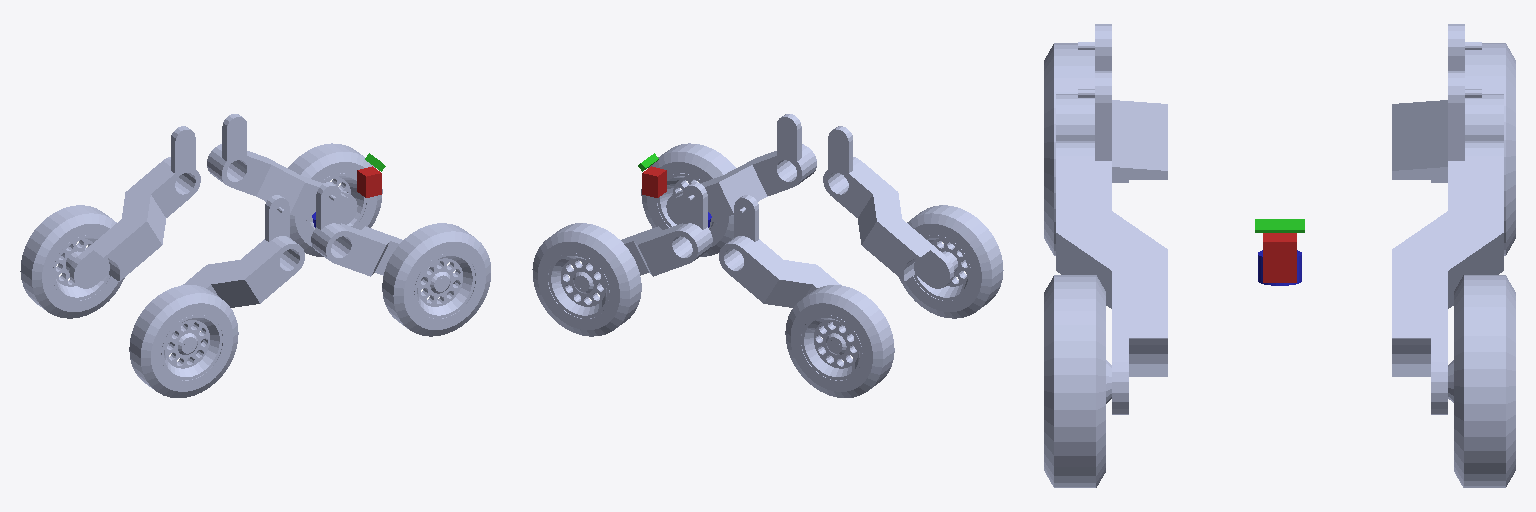
URDF robot description (RANGER):
<?xml version="1.0" encoding="utf-8"?>
<!-- This URDF was automatically created by SolidWorks to URDF Exporter! Originally created by Stephen Brawner (brawner@gmail.com) 
     Commit Version: 1.6.0-4-g7f85cfe  Build Version: 1.6.7995.38578
     For more information, please see http://wiki.ros.org/sw_urdf_exporter -->
<robot
  name="RANGER">
  <link
    name="base_link">
    <inertial>
      <origin
        xyz="-5.46479096528476E-17 7.31981084286794E-16 -0.188934193606082"
        rpy="0 0 0" />
      <mass
        value="100.0" />
      <inertia
        ixx="6.14905500644"
        ixy="0"
        ixz="0"
        iyy="16.30883084895"
        iyz="0"
        izz="20.61505350979" />
    </inertial>
    <visual>
      <origin
        xyz="0 0 0"
        rpy="0 0 0" />
      <geometry>
        <mesh
          filename="../meshes/base_link.STL" />
      </geometry>
      <material
        name="">
        <color
          rgba="0.929411764705882 1 0.956862745098039 1" />
      </material>
    </visual>
    <collision>
      <origin
        xyz="0 0 0"
        rpy="0 0 0" />
      <geometry>
        <mesh
          filename="../meshes/base_link.STL" />
      </geometry>
    </collision>
  </link>
  <link
    name="lb_Link">
    <inertial>
      <origin
        xyz="-0.170743816127254 0.000576453381228581 -0.0917627152243217"
        rpy="0 0 0" />
      <mass
        value="5.0" />
      <inertia
        ixx="0.05156656736"
        ixy="-0.01680026754"
        ixz="-0.04265638841"
        iyy="0.10789462840"
        iyz="-0.01021225192"
        izz="0.08308789335" />
    </inertial>
    <visual>
      <origin
        xyz="0 0 0"
        rpy="0 0 0" />
      <geometry>
        <mesh
          filename="../meshes/lb_Link.STL" />
      </geometry>
      <material
        name="">
        <color
          rgba="0.792156862745098 0.819607843137255 0.933333333333333 1" />
      </material>
    </visual>
    <collision>
      <origin
        xyz="0 0 0"
        rpy="0 0 0" />
      <geometry>
        <mesh
          filename="../meshes/lb_Link.STL" />
      </geometry>
    </collision>
  </link>
  <joint
    name="g_lb"
    type="revolute">
    <origin
      xyz="-0.1 0.300000000000001 -0.279999999999999"
      rpy="0 0 0" />
    <parent
      link="base_link" />
    <child
      link="lb_Link" />
    <axis
      xyz="0 1 0" />
    <limit
      lower="-0.35"
      upper="0.35"
      effort="800"
      velocity="3" />
    <dynamics
      damping="0.1"
      friction="0.1" />
    <safety_controller
      soft_upper_limit="0.4"
      soft_lower_limit="-0.4"
      k_position="10"
      k_velocity="5" />
  </joint>
  <link
    name="w_lb">
    <inertial>
      <origin
        xyz="-5.55111512312578E-17 -0.0348147111715202 -2.22044604925031E-16"
        rpy="0 0 0" />
      <mass
        value="3.0" />
      <inertia
        ixx="0.03325693218"
        ixy="0"
        ixz="0"
        iyy="0.06147218793"
        iyz="0"
        izz="0.03325693218" />
    </inertial>
    <visual>
      <origin
        xyz="0 0 0"
        rpy="0 0 0" />
      <geometry>
        <mesh
          filename="../meshes/w_lb.STL" />
      </geometry>
      <material
        name="">
        <color
          rgba="0.792156862745098 0.819607843137255 0.933333333333333 1" />
      </material>
    </visual>
    <collision>
      <origin
        xyz="0 0 0"
        rpy="0 0 0" />
      <geometry>
        <mesh
          filename="../meshes/w_lb.STL" />
      </geometry>
    </collision>
  </link>
  <joint
    name="w_lb"
    type="continuous">
    <origin
      xyz="-0.389711431702996 0.100000000000001 -0.225000000000001"
      rpy="0 0 0" />
    <parent
      link="lb_Link" />
    <child
      link="w_lb" />
    <axis
      xyz="0 -1 0" />
    <dynamics
      damping="0.1"
      friction="0.1" />
  </joint>
  <link
    name="lf_Link">
    <inertial>
      <origin
        xyz="0.170743816127254 0.000576453381228526 -0.0917627152243219"
        rpy="0 0 0" />
      <mass
        value="5.0" />
      <inertia
        ixx="0.05156656736"
        ixy="0.01680026754"
        ixz="0.04265638841"
        iyy="0.10789462840"
        iyz="-0.01021225192"
        izz="0.08308789335" />
    </inertial>
    <visual>
      <origin
        xyz="0 0 0"
        rpy="0 0 0" />
      <geometry>
        <mesh
          filename="../meshes/lf_Link.STL" />
      </geometry>
      <material
        name="">
        <color
          rgba="0.792156862745098 0.819607843137255 0.933333333333333 1" />
      </material>
    </visual>
    <collision>
      <origin
        xyz="0 0 0"
        rpy="0 0 0" />
      <geometry>
        <mesh
          filename="../meshes/lf_Link.STL" />
      </geometry>
    </collision>
  </link>
  <joint
    name="g_lf"
    type="revolute">
    <origin
      xyz="0.1 0.300000000000001 -0.279999999999999"
      rpy="0 0 0" />
    <parent
      link="base_link" />
    <child
      link="lf_Link" />
    <axis
      xyz="0 1 0" />
    <limit
      lower="-0.35"
      upper="0.35"
      effort="800"
      velocity="3" />
    <dynamics
      damping="0.1"
      friction="0.1" />
    <safety_controller
      soft_upper_limit="0.4"
      soft_lower_limit="-0.4"
      k_position="10"
      k_velocity="5" />
  </joint>
  <link
    name="w_lf">
    <inertial>
      <origin
        xyz="5.55111512312578E-17 -0.0348147111715202 -2.22044604925031E-16"
        rpy="0 0 0" />
      <mass
        value="3.0" />
      <inertia
        ixx="0.03325693218"
        ixy="0"
        ixz="0"
        iyy="0.06147218793"
        iyz="0"
        izz="0.03325693218" />
    </inertial>
    <visual>
      <origin
        xyz="0 0 0"
        rpy="0 0 0" />
      <geometry>
        <mesh
          filename="../meshes/w_lf.STL" />
      </geometry>
      <material
        name="">
        <color
          rgba="0.792156862745098 0.819607843137255 0.933333333333333 1" />
      </material>
    </visual>
    <collision>
      <origin
        xyz="0 0 0"
        rpy="0 0 0" />
      <geometry>
        <mesh
          filename="../meshes/w_lf.STL" />
      </geometry>
    </collision>
  </link>
  <joint
    name="w_lf"
    type="continuous">
    <origin
      xyz="0.389711431702996 0.100000000000001 -0.225000000000002"
      rpy="0 0 0" />
    <parent
      link="lf_Link" />
    <child
      link="w_lf" />
    <axis
      xyz="0 -1 0" />
    <dynamics
      damping="0.1"
      friction="0.1" />
  </joint>
  <link
    name="rf_Link">
    <inertial>
      <origin
        xyz="0.170743816127254 -0.000576453381228026 -0.0917627152243219"
        rpy="0 0 0" />
      <mass
        value="5.0" />
      <inertia
        ixx="0.05156656736"
        ixy="-0.01680026754"
        ixz="0.04265638841"
        iyy="0.10789462840"
        iyz="0.01021225192"
        izz="0.08308789335" />
    </inertial>
    <visual>
      <origin
        xyz="0 0 0"
        rpy="0 0 0" />
      <geometry>
        <mesh
          filename="../meshes/rf_Link.STL" />
      </geometry>
      <material
        name="">
        <color
          rgba="0.792156862745098 0.819607843137255 0.933333333333333 1" />
      </material>
    </visual>
    <collision>
      <origin
        xyz="0 0 0"
        rpy="0 0 0" />
      <geometry>
        <mesh
          filename="../meshes/rf_Link.STL" />
      </geometry>
    </collision>
  </link>
  <joint
    name="g_rf"
    type="revolute">
    <origin
      xyz="0.1 -0.299999999999999 -0.280000000000001"
      rpy="0 0 0" />
    <parent
      link="base_link" />
    <child
      link="rf_Link" />
    <axis
      xyz="0 -1 0" />
    <limit
      lower="-0.35"
      upper="0.35"
      effort="800"
      velocity="3" />
    <dynamics
      damping="0.1"
      friction="0.1" />
    <safety_controller
      soft_upper_limit="0.4"
      soft_lower_limit="-0.4"
      k_position="10"
      k_velocity="5" />
  </joint>
  <link
    name="w_rf">
    <inertial>
      <origin
        xyz="5.55111512312578E-17 0.0348147111715202 2.22044604925031E-16"
        rpy="0 0 0" />
      <mass
        value="3.0" />
      <inertia
        ixx="0.03325693218"
        ixy="0"
        ixz="0"
        iyy="0.06147218793"
        iyz="0"
        izz="0.03325693218" />
    </inertial>
    <visual>
      <origin
        xyz="0 0 0"
        rpy="0 0 0" />
      <geometry>
        <mesh
          filename="../meshes/w_rf.STL" />
      </geometry>
      <material
        name="">
        <color
          rgba="0.792156862745098 0.819607843137255 0.933333333333333 1" />
      </material>
    </visual>
    <collision>
      <origin
        xyz="0 0 0"
        rpy="0 0 0" />
      <geometry>
        <mesh
          filename="../meshes/w_rf.STL" />
      </geometry>
    </collision>
  </link>
  <joint
    name="w_rf"
    type="continuous">
    <origin
      xyz="0.389711431702996 -0.0999999999999991 -0.225000000000002"
      rpy="0 0 0" />
    <parent
      link="rf_Link" />
    <child
      link="w_rf" />
    <axis
      xyz="0 1 0" />
    <dynamics
      damping="0.1"
      friction="0.1" />
  </joint>
  <link
    name="rb_Link">
    <inertial>
      <origin
        xyz="-0.170743816127254 -0.000576453381228081 -0.0917627152243217"
        rpy="0 0 0" />
      <mass
        value="5.0" />
      <inertia
        ixx="0.05156656736"
        ixy="0.01680026754"
        ixz="-0.04265638841"
        iyy="0.10789462840"
        iyz="0.01021225192"
        izz="0.08308789335" />
    </inertial>
    <visual>
      <origin
        xyz="0 0 0"
        rpy="0 0 0" />
      <geometry>
        <mesh
          filename="../meshes/rb_Link.STL" />
      </geometry>
      <material
        name="">
        <color
          rgba="0.792156862745098 0.819607843137255 0.933333333333333 1" />
      </material>
    </visual>
    <collision>
      <origin
        xyz="0 0 0"
        rpy="0 0 0" />
      <geometry>
        <mesh
          filename="../meshes/rb_Link.STL" />
      </geometry>
    </collision>
  </link>
  <joint
    name="g_rb"
    type="revolute">
    <origin
      xyz="-0.1 -0.299999999999999 -0.280000000000001"
      rpy="0 0 0" />
    <parent
      link="base_link" />
    <child
      link="rb_Link" />
    <axis
      xyz="0 -1 0" />
    <limit
      lower="-0.35"
      upper="0.35"
      effort="800"
      velocity="3" />
    <dynamics
      damping="0.1"
      friction="0.1" />
    <safety_controller
      soft_upper_limit="0.4"
      soft_lower_limit="-0.4"
      k_position="10"
      k_velocity="5" />
  </joint>
  <link
    name="w_rb">
    <inertial>
      <origin
        xyz="0 0.0348147111715202 2.22044604925031E-16"
        rpy="0 0 0" />
      <mass
        value="3.0" />
      <inertia
        ixx="0.03325693218"
        ixy="0"
        ixz="0"
        iyy="0.06147218793"
        iyz="0"
        izz="0.03325693218" />
    </inertial>
    <visual>
      <origin
        xyz="0 0 0"
        rpy="0 0 0" />
      <geometry>
        <mesh
          filename="../meshes/w_rb.STL" />
      </geometry>
      <material
        name="">
        <color
          rgba="0.792156862745098 0.819607843137255 0.933333333333333 1" />
      </material>
    </visual>
    <collision>
      <origin
        xyz="0 0 0"
        rpy="0 0 0" />
      <geometry>
        <mesh
          filename="../meshes/w_rb.STL" />
      </geometry>
    </collision>
  </link>
  <joint
    name="w_rb"
    type="continuous">
    <origin
      xyz="-0.389711431702996 -0.0999999999999991 -0.225000000000002"
      rpy="0 0 0" />
    <parent
      link="rb_Link" />
    <child
      link="w_rb" />
    <axis
      xyz="0 1 0" />
    <dynamics
      damping="0.1"
      friction="0.1" />
  </joint>
  <link
    name="mid360_link">
    <visual>
      <origin
        xyz="0 0 0"
        rpy="0 0 0" />
      <geometry>
        <cylinder
          radius="0.04"
          length="0.05" />
      </geometry>
      <material
        name="">
        <color
          rgba="0.2 0.2 0.8 1.0" />
      </material>
    </visual>
    <collision>
      <origin
        xyz="0 0 0"
        rpy="0 0 0" />
      <geometry>
        <cylinder
          radius="0.04"
          length="0.05" />
      </geometry>
    </collision>
  </link>
  <joint
    name="mid360_joint"
    type="fixed">
    <origin
      xyz="0.26856 0 -0.38302"
      rpy="2.932153 0 1.570796" />
    <parent
      link="base_link" />
    <child
      link="mid360_link" />
  </joint>
  <link
    name="avia_link">
    <visual>
      <origin
        xyz="0 0 0"
        rpy="0 0 0" />
      <geometry>
        <box
          size="0.06 0.06 0.08" />
      </geometry>
      <material
        name="">
        <color
          rgba="0.8 0.2 0.2 1.0" />
      </material>
    </visual>
    <collision>
      <origin
        xyz="0 0 0"
        rpy="0 0 0" />
      <geometry>
        <box
          size="0.06 0.06 0.08" />
      </geometry>
    </collision>
  </link>
  <joint
    name="avia_joint"
    type="fixed">
    <origin
      xyz="0.43983 0 -0.28000"
      rpy="0 0 0" />
    <parent
      link="base_link" />
    <child
      link="avia_link" />
  </joint>
  <link
    name="d435i_link">
    <visual>
      <origin
        xyz="0 0 0"
        rpy="0 0 0" />
      <geometry>
        <box
          size="0.02 0.09 0.025" />
      </geometry>
      <material
        name="">
        <color
          rgba="0.2 0.8 0.2 1.0" />
      </material>
    </visual>
    <collision>
      <origin
        xyz="0 0 0"
        rpy="0 0 0" />
      <geometry>
        <box
          size="0.02 0.09 0.025" />
      </geometry>
    </collision>
  </link>
  <joint
    name="d435i_joint"
    type="fixed">
    <origin
      xyz="0.46259 0 -0.21177"
      rpy="0 0.872665 0" />
    <parent
      link="base_link" />
    <child
      link="d435i_link" />
  </joint>
  <link
    name="d435i_depth_optical_frame" />
  <joint
    name="d435i_depth_optical_joint"
    type="fixed">
    <origin
      xyz="0 0 0"
      rpy="-1.570796 0 -1.570796" />
    <parent
      link="d435i_link" />
    <child
      link="d435i_depth_optical_frame" />
  </joint>
</robot>

--- Facts derived from the render (not from the file) ---
Views: 3 orthographic renders of the robot side by side, from view 1: azimuth 30°, elevation 25°; view 2: azimuth 150°, elevation 25°; view 3: azimuth 270°, elevation 25°.
Model RANGER with 13 links and 12 joints (4 revolute, 4 continuous, 4 fixed), rooted at base_link, posed all joints at 0.
Links seen in each view (by area): view 1: w_rb, w_rf, lb_Link, w_lb, rb_Link, lf_Link, rf_Link, w_lf, avia_link; view 2: w_lb, w_lf, rb_Link, w_rb, lb_Link, rf_Link, lf_Link, w_rf, avia_link; view 3: lf_Link, rf_Link, w_rf, w_lf, lb_Link, rb_Link, w_lb, w_rb, avia_link, d435i_link.
Link boxes in pixels (bbox=[...]): w_rb: bbox=[129, 285, 238, 397]; w_rf: bbox=[382, 223, 490, 336]; lb_Link: bbox=[69, 126, 200, 288]; w_lb: bbox=[20, 205, 124, 318]; rb_Link: bbox=[167, 195, 304, 350]; lf_Link: bbox=[207, 114, 357, 224]; rf_Link: bbox=[311, 182, 446, 288]; w_lf: bbox=[288, 143, 382, 256]; avia_link: bbox=[357, 166, 381, 197]; w_lb: bbox=[785, 285, 894, 397]; w_lf: bbox=[532, 223, 641, 336]; rb_Link: bbox=[823, 126, 954, 288]; w_rb: bbox=[899, 205, 1003, 318]; lb_Link: bbox=[719, 195, 856, 350]; rf_Link: bbox=[666, 114, 816, 224]; lf_Link: bbox=[577, 182, 712, 288]; w_rf: bbox=[641, 143, 735, 256]; avia_link: bbox=[642, 166, 666, 197]; lf_Link: bbox=[1392, 71, 1503, 414]; rf_Link: bbox=[1056, 71, 1167, 414]; w_rf: bbox=[1044, 275, 1111, 487]; w_lf: bbox=[1448, 275, 1515, 487]; lb_Link: bbox=[1392, 24, 1503, 182]; rb_Link: bbox=[1056, 24, 1167, 182]; w_lb: bbox=[1465, 43, 1515, 255]; w_rb: bbox=[1044, 43, 1094, 255]; avia_link: bbox=[1263, 233, 1296, 282]; d435i_link: bbox=[1255, 219, 1304, 232].
Bounding box of the posed robot: 1.36 × 0.84 × 0.6149 m (x, y, z).
Meshes: 9 distinct files referenced, 8 mesh visuals loaded (8 binary STL); not drawn: 1 (reference not matched to a file when rendering).
